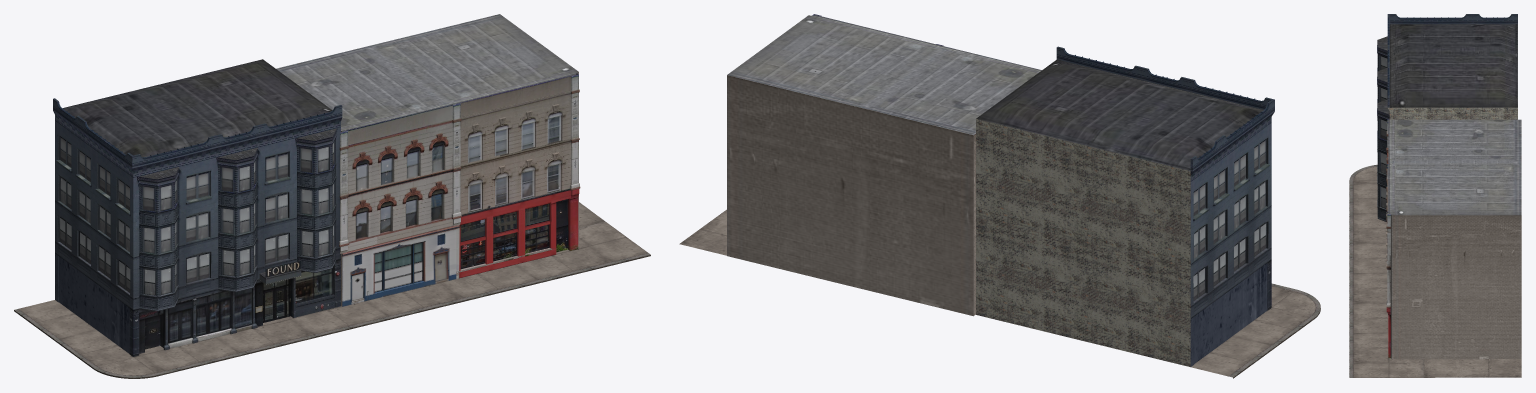
File: Builds.fbx
3 renders of one model, left to right at view 1: azimuth 30°, elevation 25°; view 2: azimuth 150°, elevation 25°; view 3: azimuth 270°, elevation 25°, orthographic. The views are drawn at different scales.
Visible parts, largest first — view 1: Building black, Building, Sidewalks; view 2: Building, Bricks, Building black, Sidewalks; view 3: Building, Building black, Sidewalks, Bricks.
Boxes of the visible parts, x1,y1,x2,y2 form: Building black: (53, 59, 342, 356); Building: (276, 14, 580, 306); Sidewalks: (14, 202, 650, 378); Building: (727, 14, 1041, 316); Bricks: (976, 119, 1190, 366); Building black: (976, 46, 1274, 366); Sidewalks: (679, 209, 1320, 378); Building: (1386, 119, 1521, 359); Building black: (1377, 14, 1517, 221); Sidewalks: (1349, 164, 1521, 377); Bricks: (1388, 107, 1517, 119).
Bounding box in the file's own units: 19789 × 7186 × 6726.
Materials: 5 (4 with a texture image).
